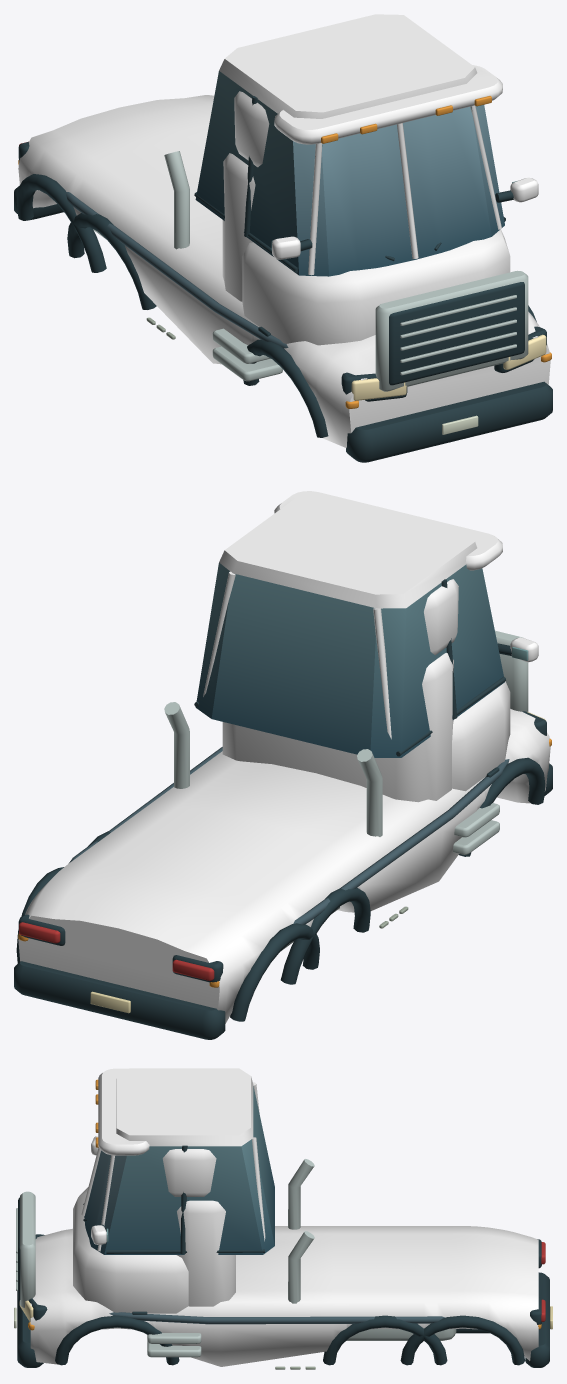
The model's file is atlas.glb.
3 renders of one model, top to bottom at view 1: azimuth 30°, elevation 25°; view 2: azimuth 150°, elevation 25°; view 3: azimuth 270°, elevation 25°, orthographic. The views are drawn at different scales.
Visible parts, largest first — view 1: Chassis, Headlamps; view 2: Chassis, BrakeLamps; view 3: Chassis.
Boxes of the visible parts, box(x1,y1,x2,y2) form: Chassis: box(14, 14, 552, 462); Headlamps: box(351, 334, 546, 400); Chassis: box(14, 491, 552, 1039); BrakeLamps: box(19, 922, 214, 980); Chassis: box(14, 1068, 552, 1369).
Bounding box in the file's own units: 2.16 × 2.36 × 4.99.
